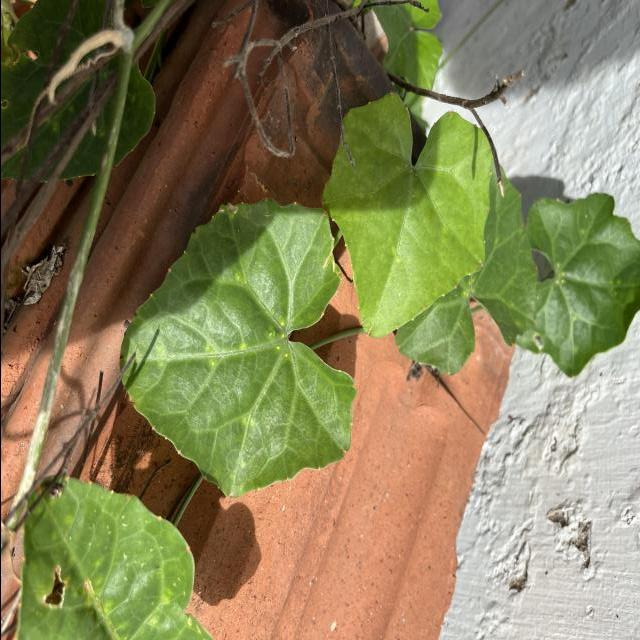Coccinia grandis: (117, 196, 358, 502), (318, 90, 494, 340)
